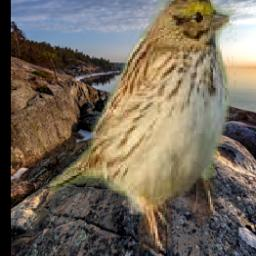Sparrow: (50, 0, 237, 250)
